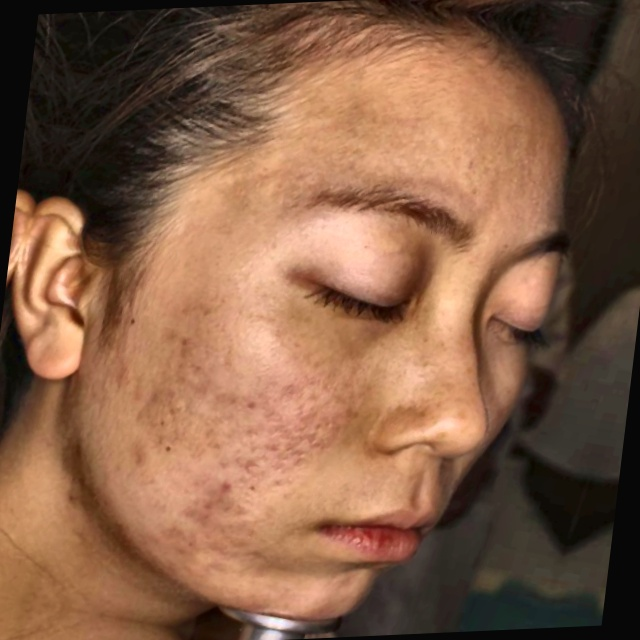comedone: (184, 467, 265, 531), (153, 515, 200, 568), (122, 436, 163, 476)
